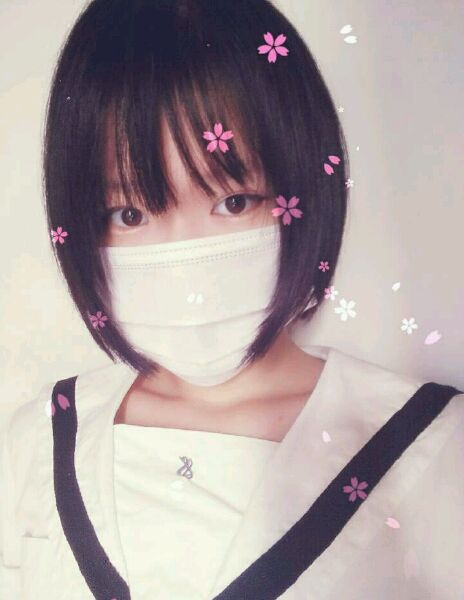face_mask: (93, 72, 297, 371)
